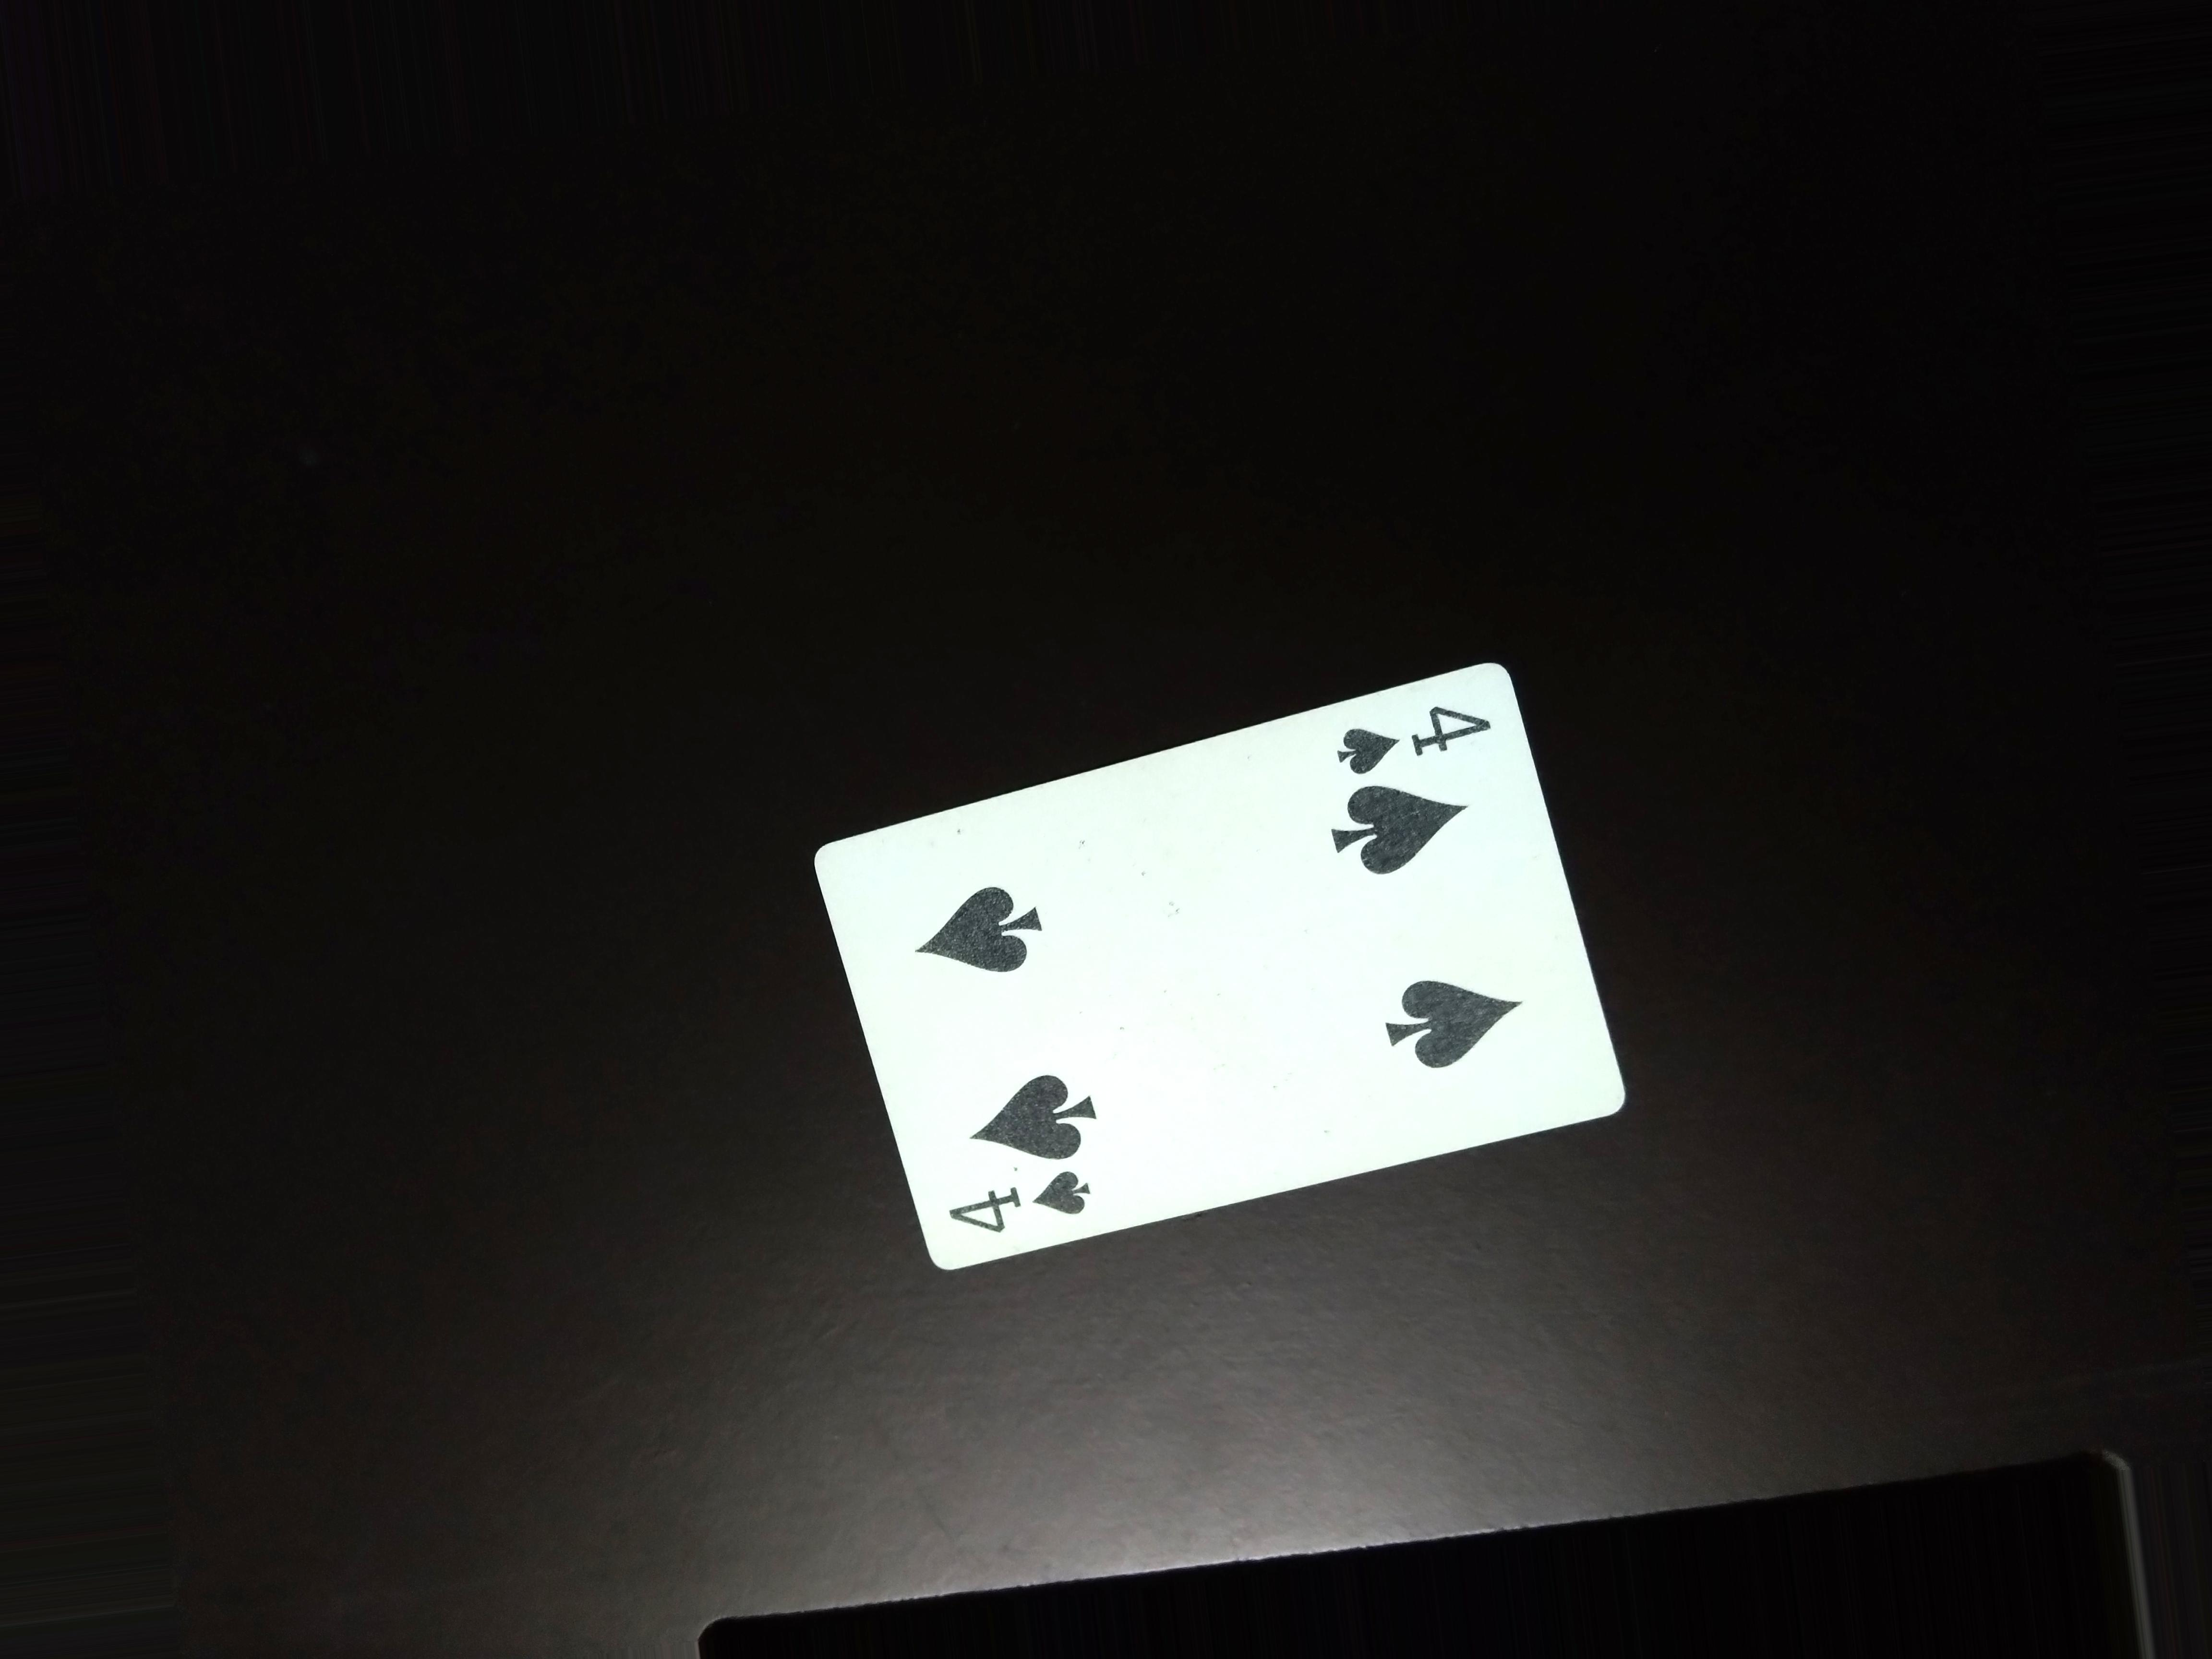4S: (923, 1175, 1132, 1229)
